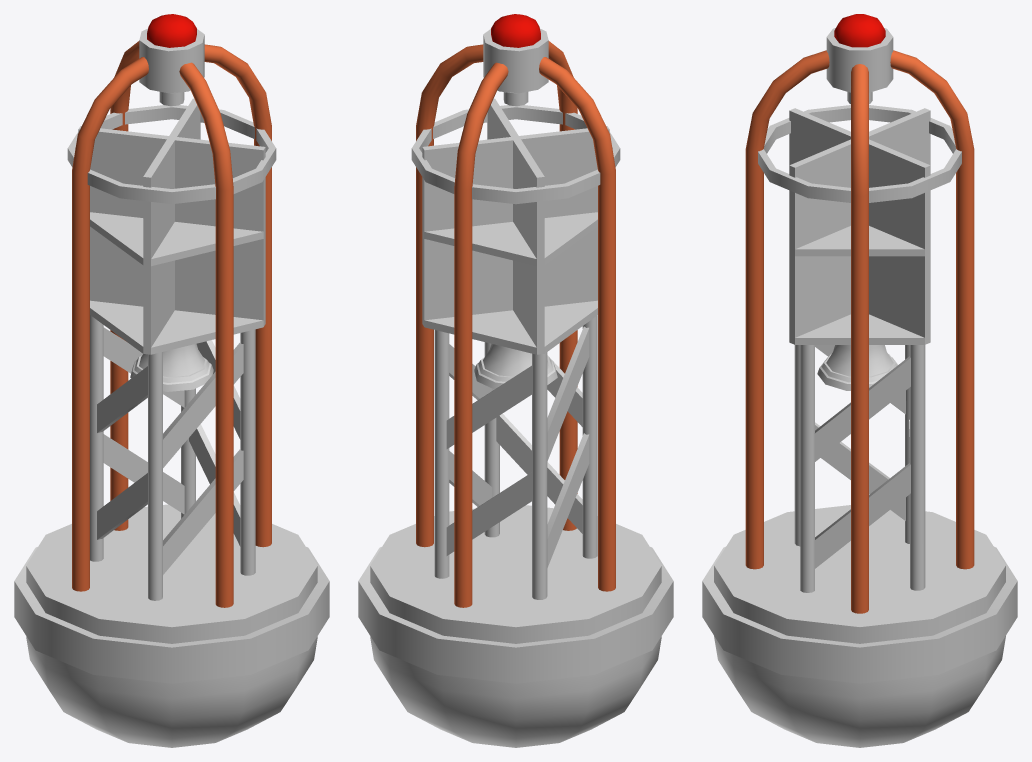
The model's file is Buoy-M01A.fbx.
3 renders of one model, left to right at view 1: azimuth 30°, elevation 25°; view 2: azimuth 150°, elevation 25°; view 3: azimuth 270°, elevation 25°, orthographic.
Parts seen in each view (by area): view 1: Boui-M01A; view 2: Boui-M01A; view 3: Boui-M01A.
Boxes of the visible parts, left/top/right/bottom form: Boui-M01A: left=14, top=14, right=329, bottom=747; Boui-M01A: left=358, top=14, right=673, bottom=747; Boui-M01A: left=702, top=14, right=1017, bottom=747.
Bounding box in the file's own units: 105 × 261 × 105.
